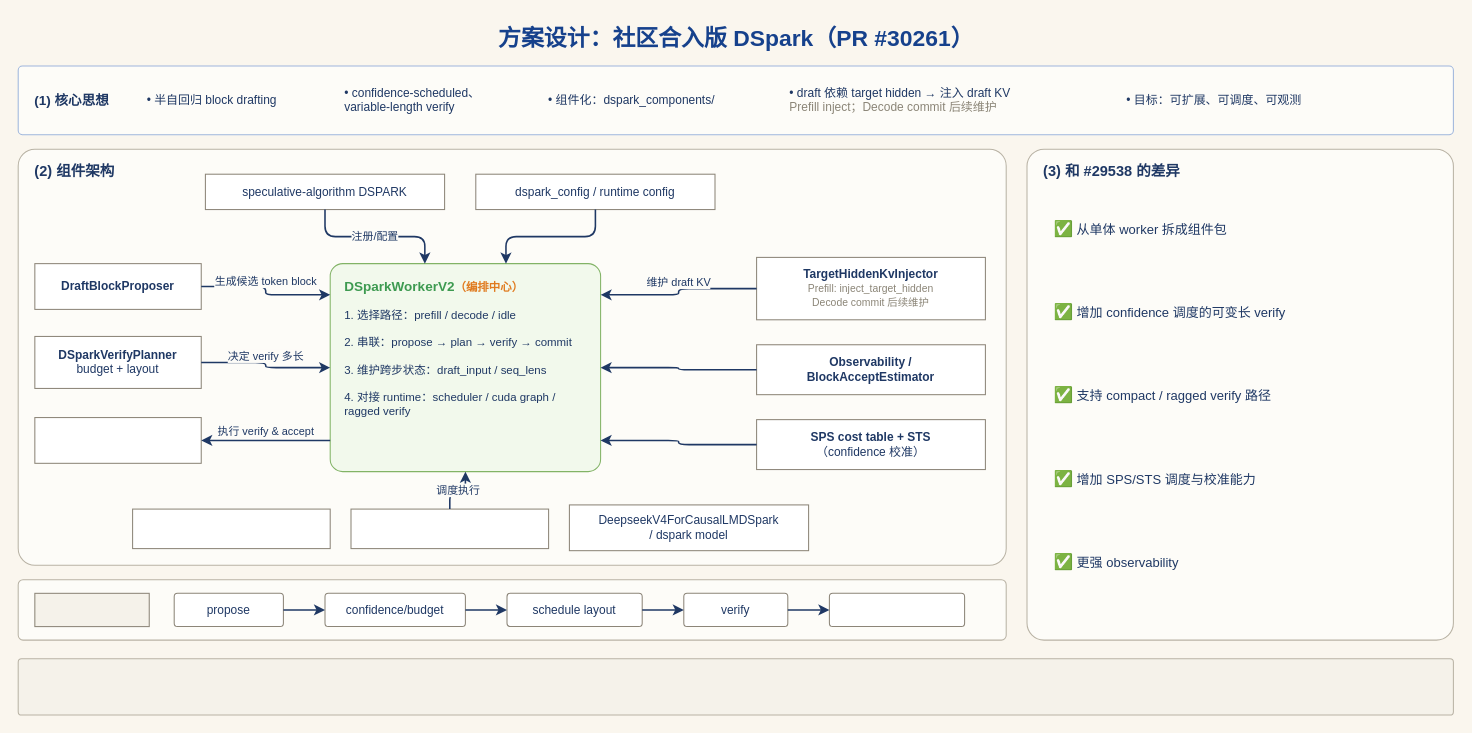
Some shapes in this 1472 by 733 pixel diagram are drawn without their labels. Each missing label, with the centre of its shape:
"#30261 不是只把 DSpark 跑通，而是把它做成可调度的组件化 speculative 系统。" goes at [735,686].
"accept/commit" goes at [896,609].
"Decode 主链路" goes at [91,609].
"ragged verify / cuda graph" goes at [449,528].
"scheduler / model_runner" goes at [231,528].
"TargetVerifyExecutor" goes at [117,440].
